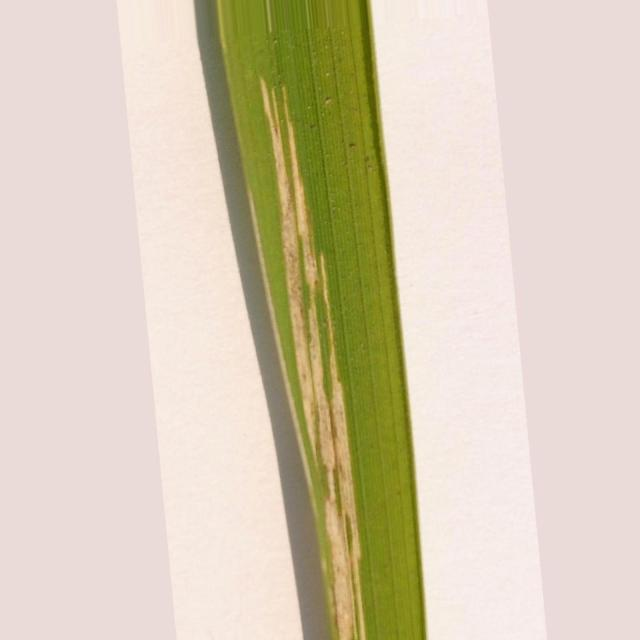Bacterial_Leaf_Blight: (260, 78, 368, 640)
